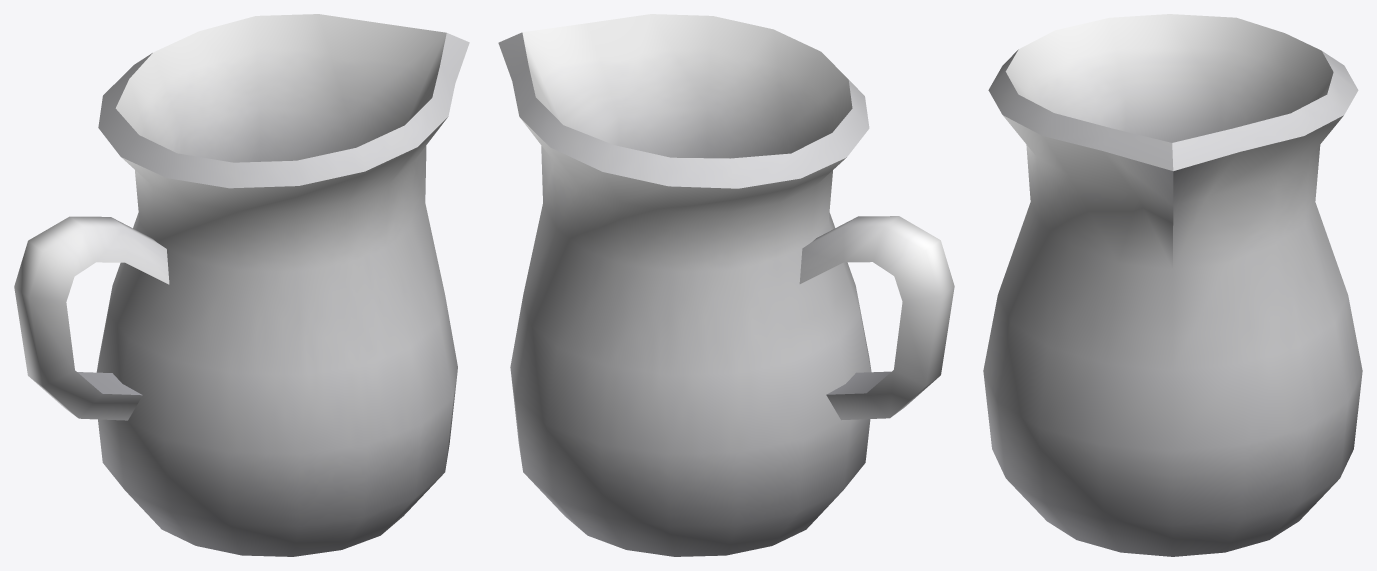
File: m_Pitcher01.fbx
3 views of the same model, side by side, from view 1: azimuth 30°, elevation 25°; view 2: azimuth 150°, elevation 25°; view 3: azimuth 270°, elevation 25° (orthographic). The views are drawn at different scales.
Visible parts, largest first — view 1: m_Pitcher01; view 2: m_Pitcher01; view 3: m_Pitcher01.
Boxes of the visible parts, x1,y1,x2,y2 form: m_Pitcher01: (14,14,469,556); m_Pitcher01: (498,14,954,556); m_Pitcher01: (983,14,1362,556).
Size of the model in its own units: 22.7 by 20.68 by 16.08.
